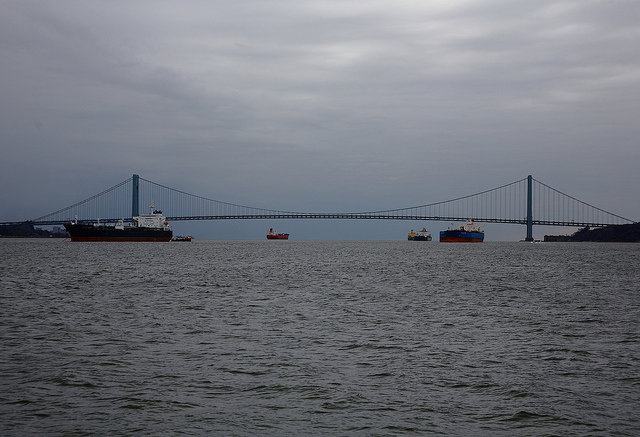tanker: (62, 210, 169, 243), (440, 219, 486, 242), (267, 224, 292, 239), (409, 225, 432, 240)
